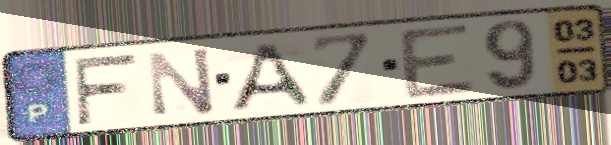7: (310, 29, 374, 109)
9: (482, 16, 545, 93)
A: (226, 39, 315, 114)
E: (395, 20, 480, 103)
F: (68, 50, 141, 128)
N: (143, 44, 218, 119)
